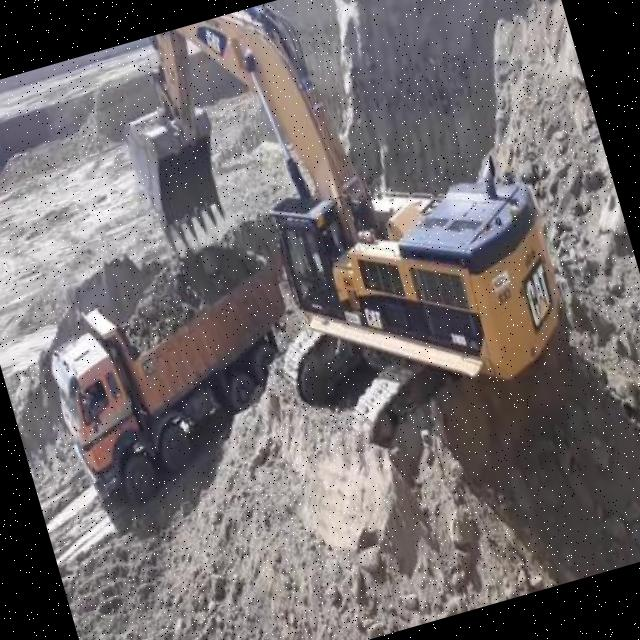Dump Truck: (25, 225, 328, 522)
Excavator: (94, 0, 588, 498)
